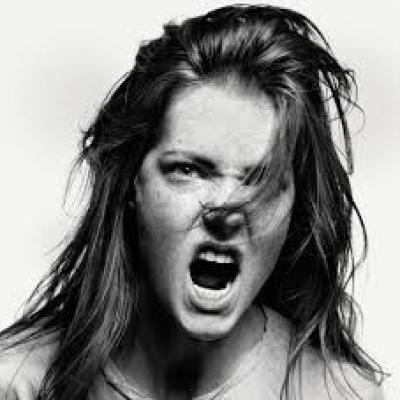angry: (120, 71, 312, 346)
